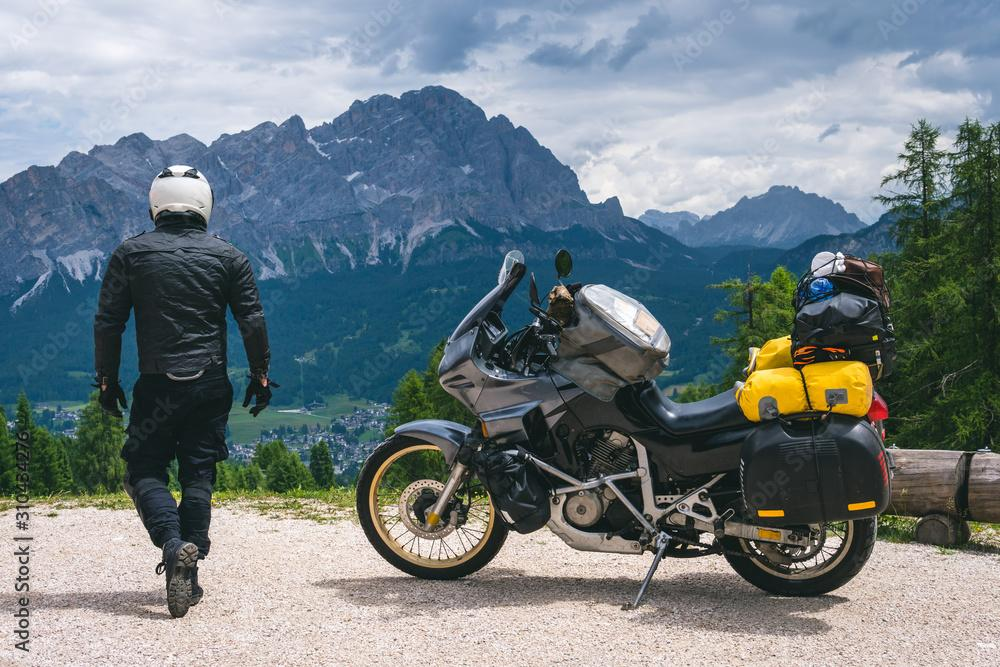helmet: (148, 164, 216, 230)
